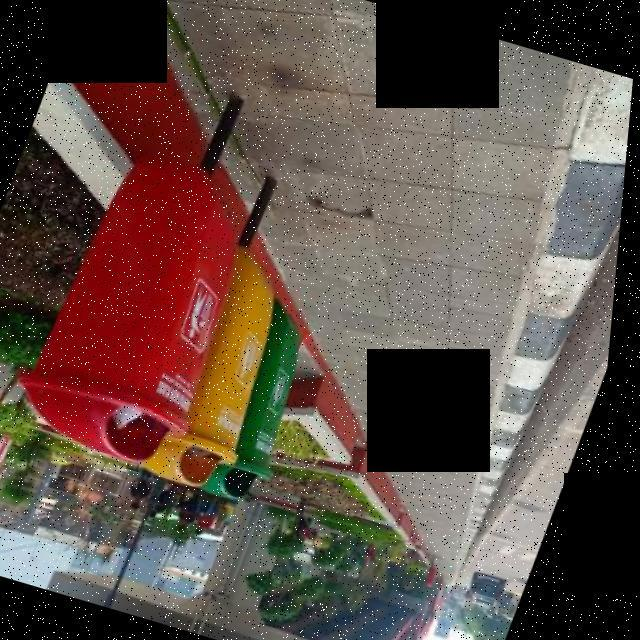bin: (0, 125, 295, 477), (162, 252, 311, 501), (208, 296, 340, 515)
